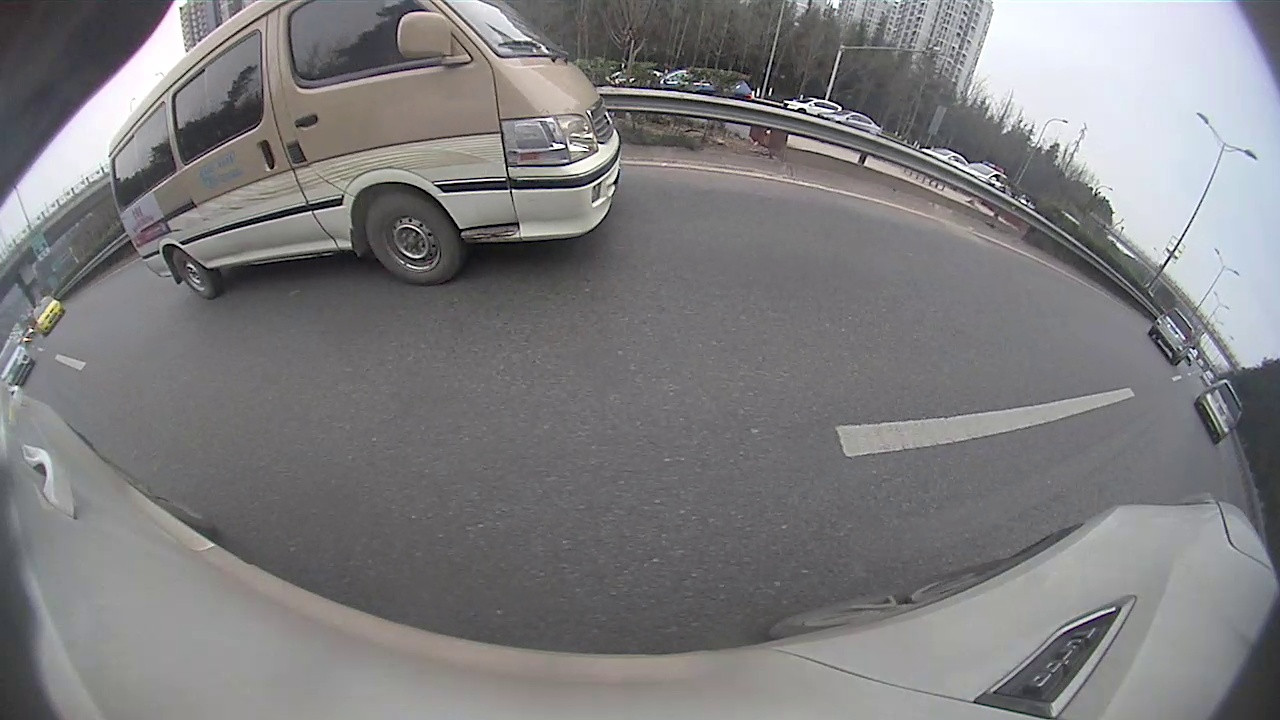car: (107, 1, 620, 302), (1198, 379, 1242, 445), (1151, 305, 1194, 366)
front: (364, 184, 470, 289)
rear: (168, 245, 222, 301)
